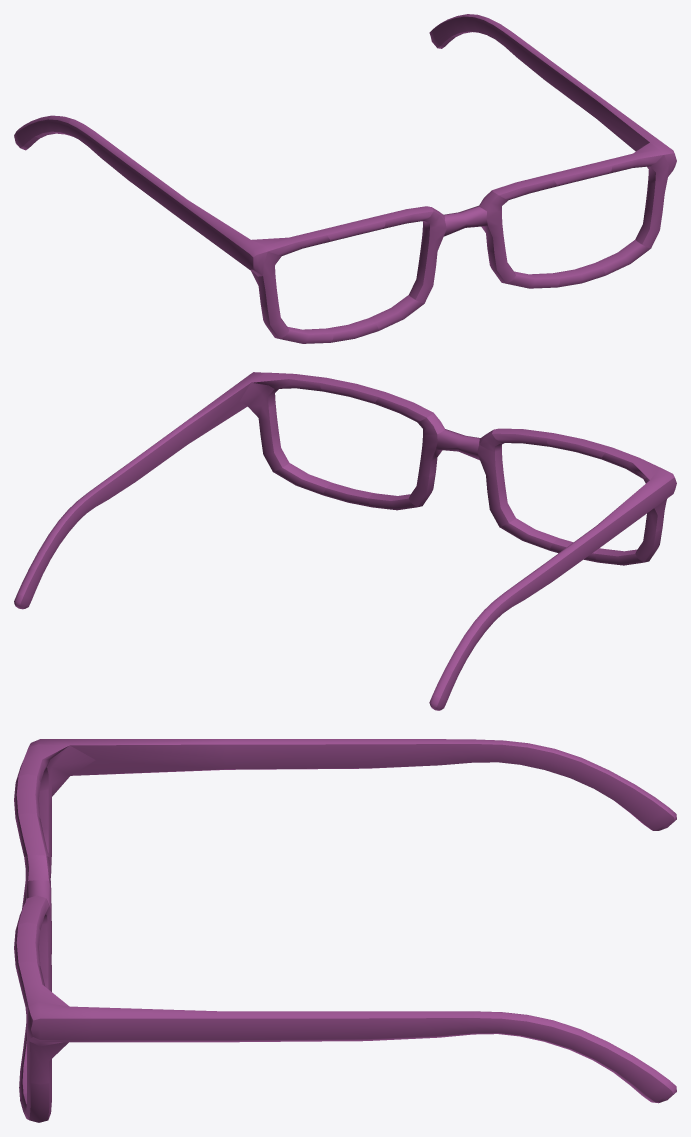
The model's file is glasses_formal_size_fixed_pink.glb.
The picture shows the model from 3 angles, top to bottom: view 1: azimuth 30°, elevation 25°; view 2: azimuth 150°, elevation 25°; view 3: azimuth 270°, elevation 25°; orthographic projection. The views are drawn at different scales.
Visible parts, largest first — view 1: Glasses_01_Plane.001; view 2: Glasses_01_Plane.001; view 3: Glasses_01_Plane.001.
Boxes of the visible parts, x1=… form: Glasses_01_Plane.001: x1=14, y1=14, x2=676, y2=343; Glasses_01_Plane.001: x1=14, y1=372, x2=676, y2=710; Glasses_01_Plane.001: x1=14, y1=739, x2=676, y2=1122.
Size of the model in its own units: 41.24 by 10.63 by 41.42.
